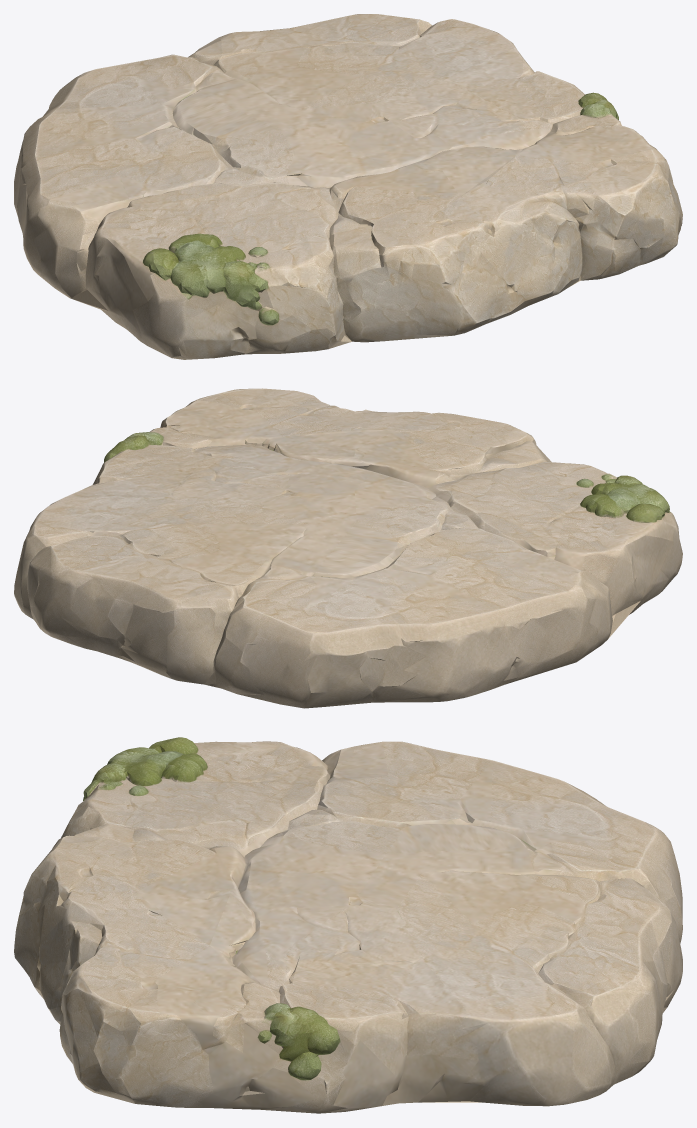
3 views of the same model, one above another, from view 1: azimuth 30°, elevation 25°; view 2: azimuth 150°, elevation 25°; view 3: azimuth 270°, elevation 25° (orthographic). The views are drawn at different scales.
Visible parts, largest first — view 1: island-stepping-stones-v1-1; view 2: island-stepping-stones-v1-1; view 3: island-stepping-stones-v1-1.
Boxes of the visible parts, left/top/right/bottom form: island-stepping-stones-v1-1: left=14, top=14, right=682, bottom=359; island-stepping-stones-v1-1: left=14, top=388, right=682, bottom=708; island-stepping-stones-v1-1: left=14, top=737, right=682, bottom=1113.
Size of the model in its own units: 1.13 by 0.18 by 1.08.
1 material, 1 textured.
